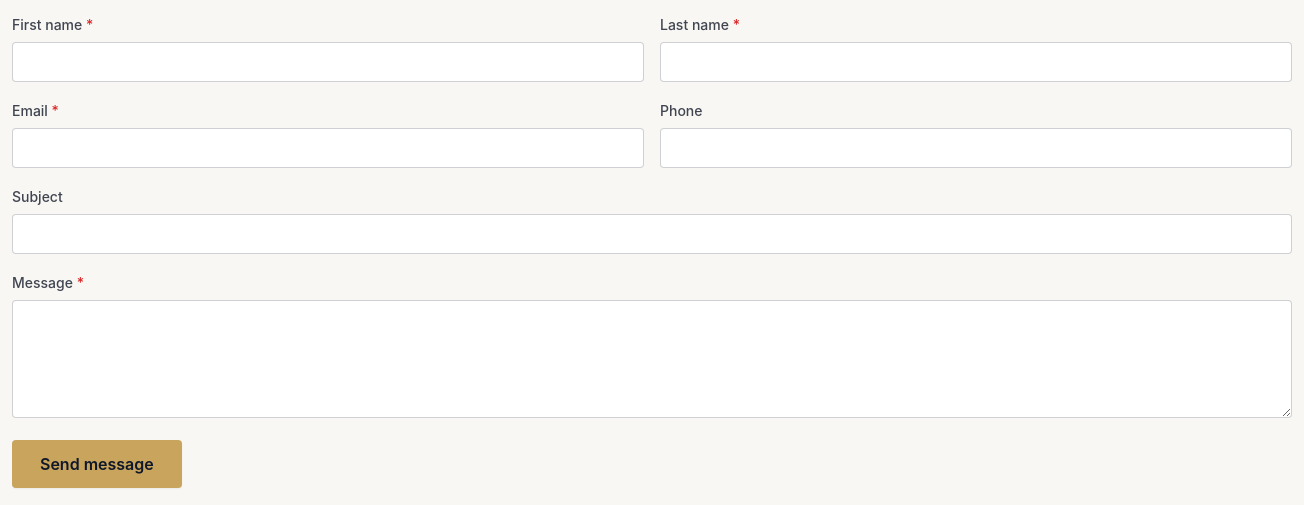
Scenario: ContactForm › submits valid data to the leads API and shows a success state
The width and height of the screenshot is (1304, 505).
Type "Jane" into the field labelled "First name *" at [328, 62], box top-left (12, 42), bottom-right (644, 82)
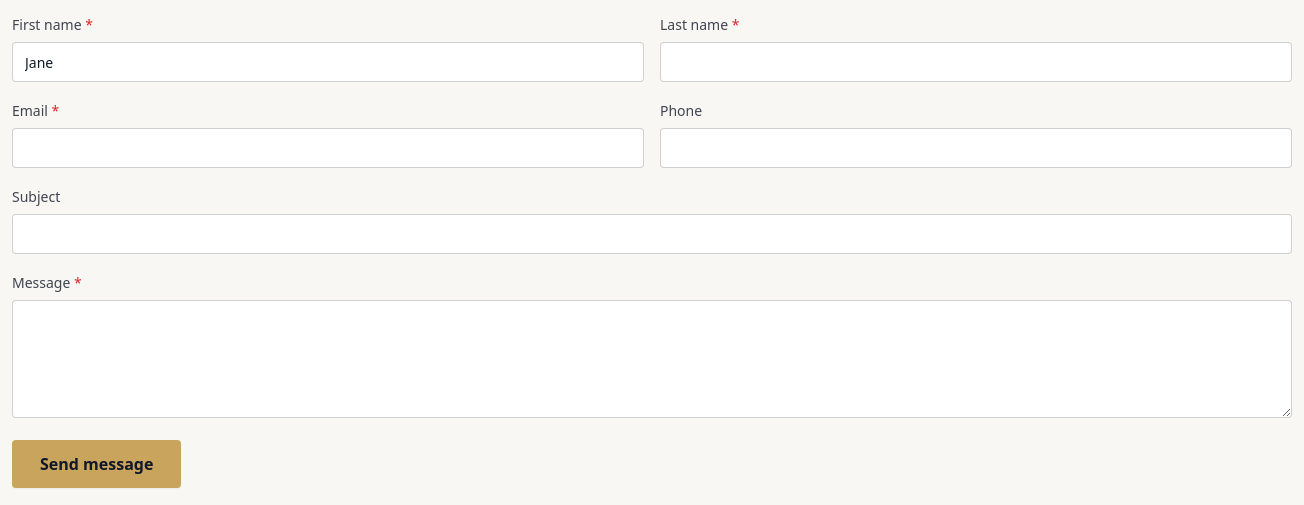
Type "Doe" into the field labelled "Last name *" at [976, 62], box top-left (660, 42), bottom-right (1292, 82)
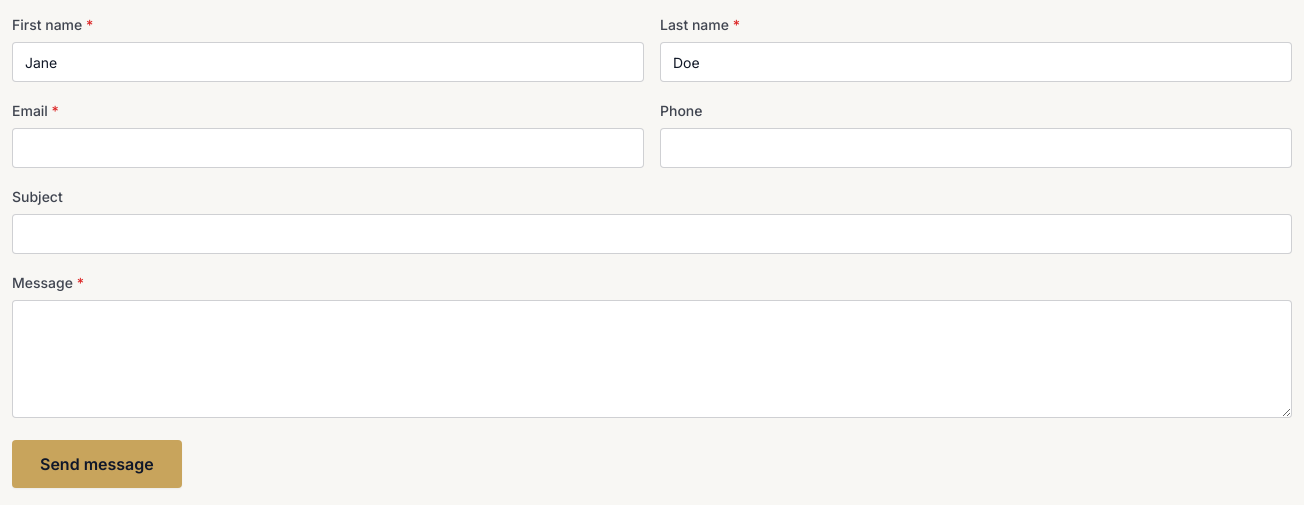
Type "jane@example.com" into the field labelled "Email *" at [328, 148], box top-left (12, 128), bottom-right (644, 168)
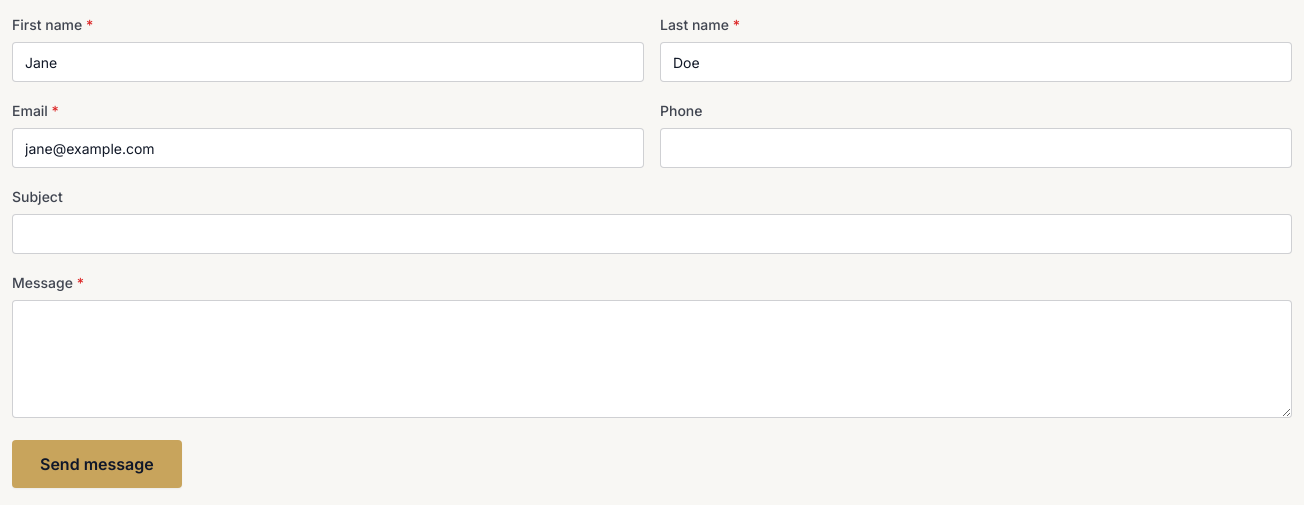
Type "Is the Q5 still available?" into the text box labelled "Message *" at [652, 359], box top-left (12, 300), bottom-right (1292, 418)
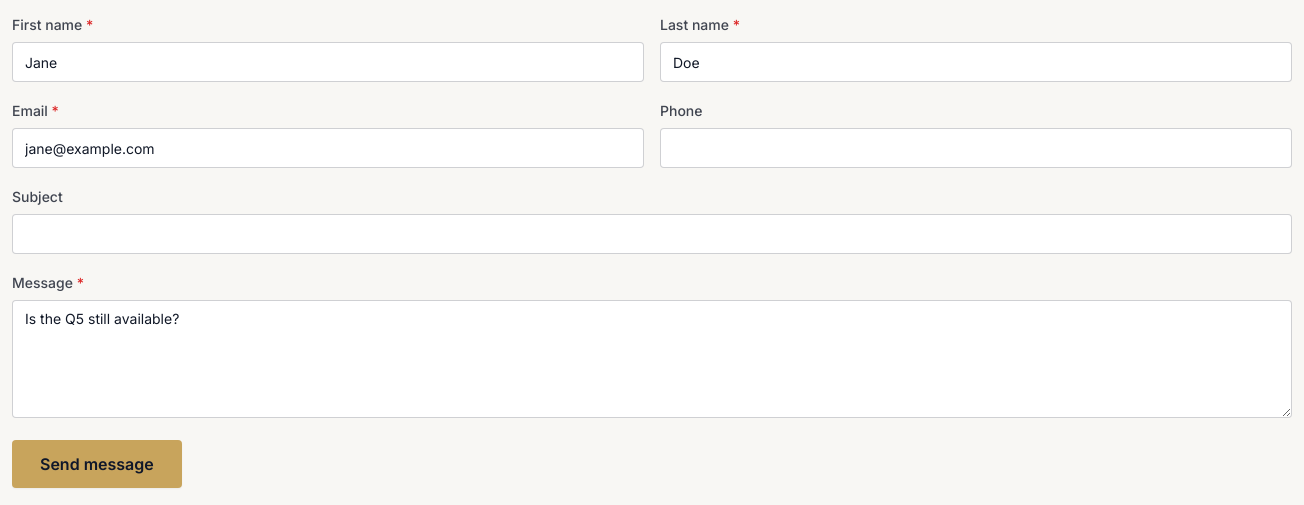
Click the button "Send message" at [97, 464], box top-left (12, 440), bottom-right (182, 488)
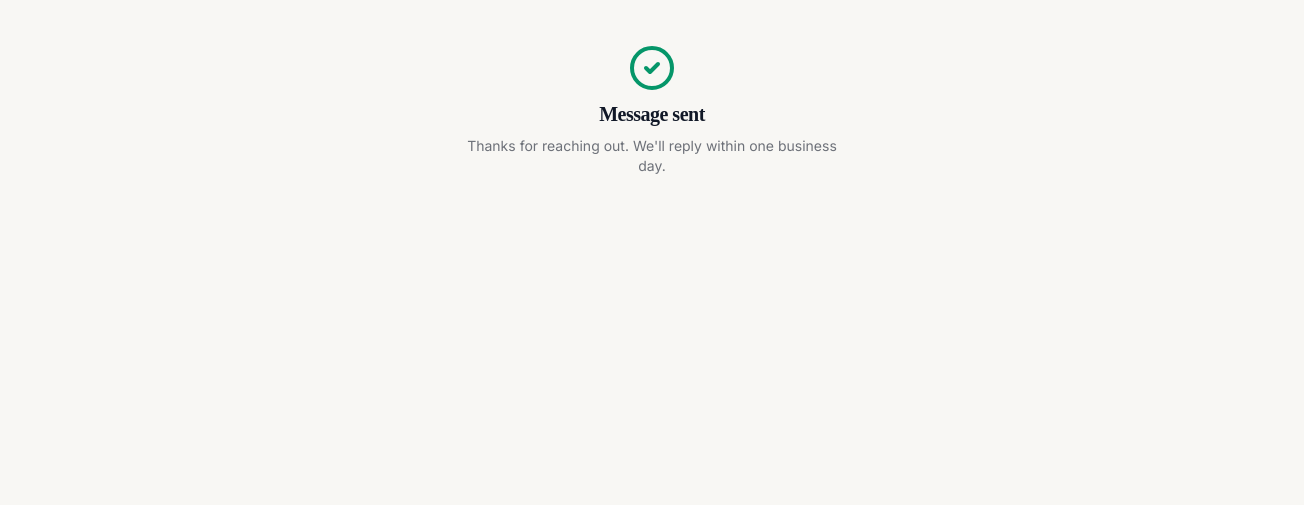
expect the heading "Message sent" is shown: met, box top-left (599, 100), bottom-right (705, 128)
